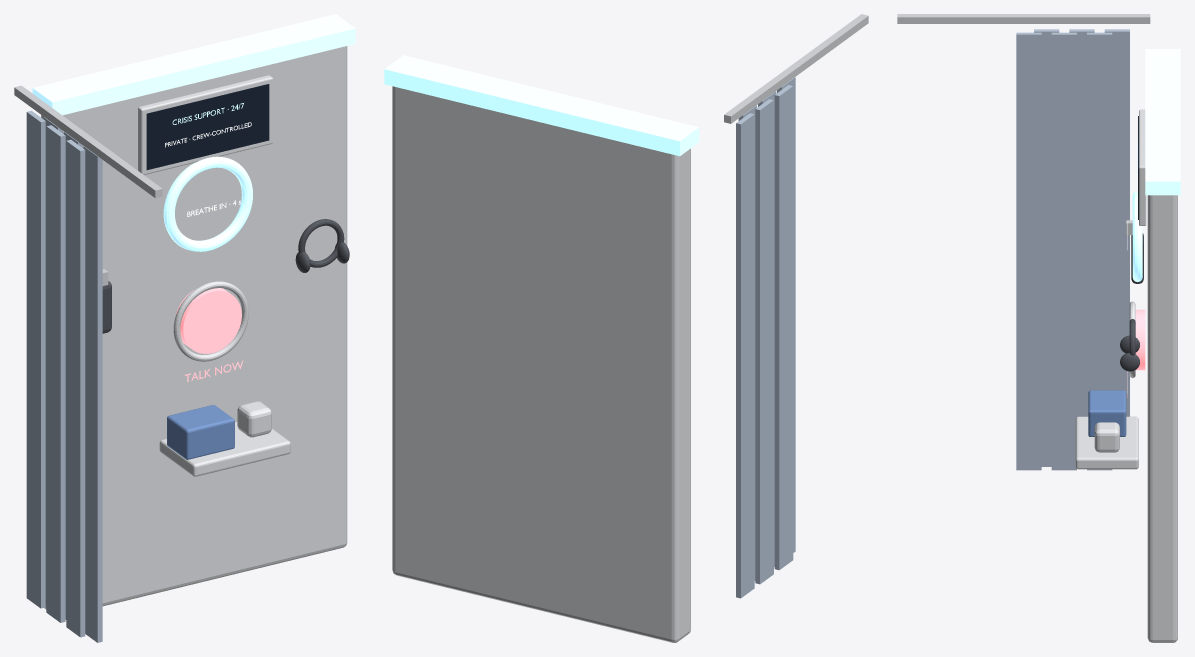
The model's file is emergency_mh_station.glb.
The picture shows the model from 3 angles, left to right: view 1: azimuth 30°, elevation 25°; view 2: azimuth 150°, elevation 25°; view 3: azimuth 270°, elevation 25°; orthographic projection. The views are drawn at different scales.
Visible parts, largest first — view 1: Wall_Panel, Calm_Header_Light, Privacy_Curtain.004, Privacy_Curtain, Privacy_Curtain.002, Privacy_Curtain.005, Support_Screen_Panel, Talk_Now_Button, Breathing_Guide, Comfort_Kit, Kit_Shelf, Support_Screen_Bezel (+6 smaller); view 2: Wall_Panel, Calm_Header_Light, Privacy_Curtain.004, Privacy_Curtain, Privacy_Curtain.002, Curtain_Rail, Privacy_Curtain.005, Privacy_Curtain.001; view 3: Wall_Panel, Privacy_Curtain.005, Privacy_Curtain.003, Privacy_Curtain.001, Privacy_Curtain, Calm_Header_Light, Privacy_Curtain.004, Privacy_Curtain.002, Curtain_Rail, Kit_Shelf, Comfort_Kit, Support_Screen_Bezel (+3 smaller).
Part boxes in pixels (x1,y1,x2,y2): Wall_Panel: (41, 46, 347, 609); Calm_Header_Light: (32, 14, 355, 115); Privacy_Curtain.004: (66, 139, 85, 637); Privacy_Curtain: (26, 110, 45, 608); Privacy_Curtain.002: (46, 125, 65, 622); Privacy_Curtain.005: (83, 146, 102, 642); Support_Screen_Panel: (146, 84, 269, 170); Talk_Now_Button: (175, 288, 241, 353); Breathing_Guide: (163, 156, 252, 251); Comfort_Kit: (167, 405, 234, 459); Kit_Shelf: (159, 421, 290, 476); Support_Screen_Bezel: (138, 75, 272, 174); Wall_Panel: (392, 86, 690, 642); Calm_Header_Light: (384, 55, 699, 156); Privacy_Curtain.004: (774, 85, 793, 570); Privacy_Curtain: (736, 113, 754, 598); Privacy_Curtain.002: (755, 99, 773, 584); Curtain_Rail: (724, 14, 868, 123); Privacy_Curtain.005: (777, 77, 795, 552); Privacy_Curtain.001: (738, 105, 756, 580); Wall_Panel: (1147, 195, 1177, 642); Privacy_Curtain.005: (1016, 32, 1041, 470); Privacy_Curtain.003: (1051, 32, 1076, 470); Privacy_Curtain.001: (1087, 32, 1112, 470); Privacy_Curtain: (1104, 29, 1129, 416); Calm_Header_Light: (1145, 49, 1180, 195); Privacy_Curtain.004: (1034, 29, 1059, 466); Privacy_Curtain.002: (1069, 29, 1094, 416); Curtain_Rail: (897, 14, 1150, 23); Kit_Shelf: (1075, 416, 1138, 469); Comfort_Kit: (1088, 390, 1126, 436); Support_Screen_Bezel: (1139, 109, 1146, 225).
Size of the model in its own units: 1.39 by 2.11 by 1.12.
